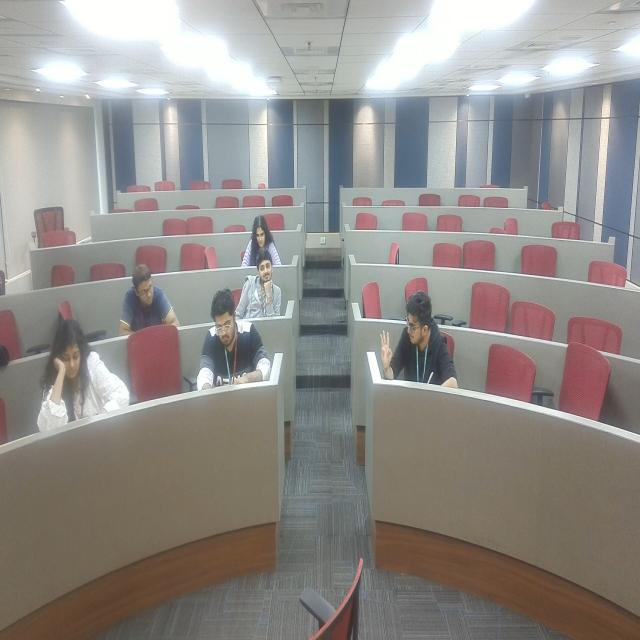cheating: (382, 290, 454, 394)
